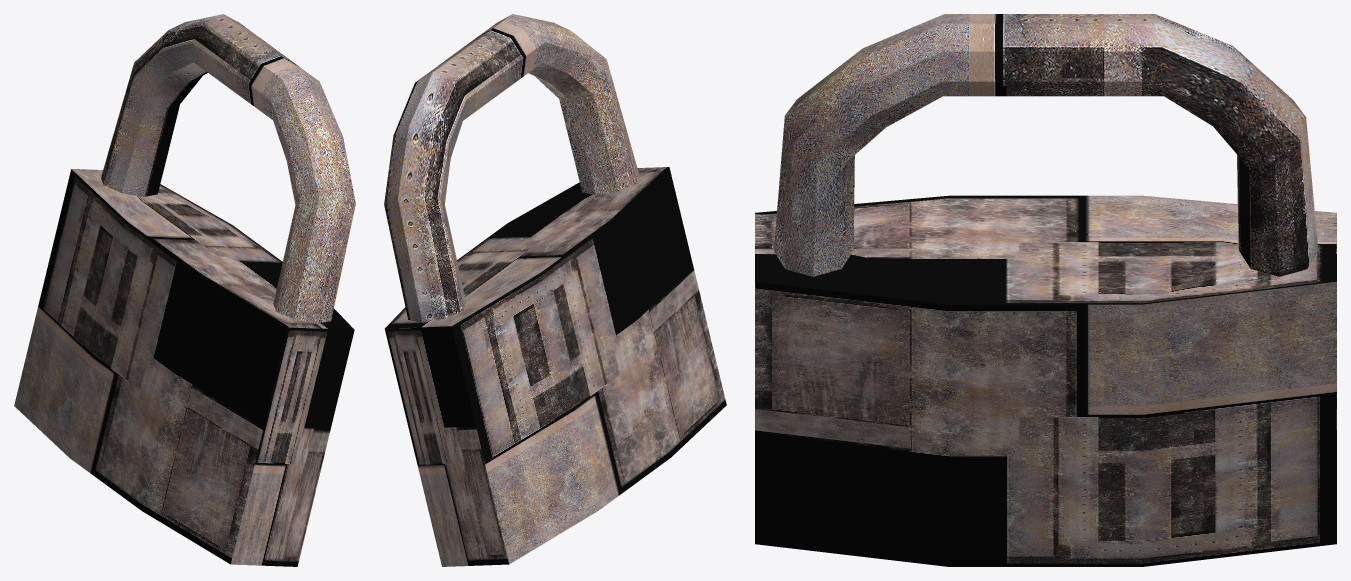
The model's file is object_lock01.dae.
3 renders of one model, left to right at view 1: azimuth 30°, elevation 25°; view 2: azimuth 150°, elevation 25°; view 3: azimuth 270°, elevation 25°, orthographic. The views are drawn at different scales.
Visible parts, largest first — view 1: lock1; view 2: lock1; view 3: lock1.
Boxes of the visible parts, bbox=[...] form: lock1: bbox=[14, 14, 355, 566]; lock1: bbox=[384, 14, 726, 566]; lock1: bbox=[755, 14, 1336, 566].
Size of what is drawn, in the model's own units: 0.0323 by 0.0746 by 0.0679.
